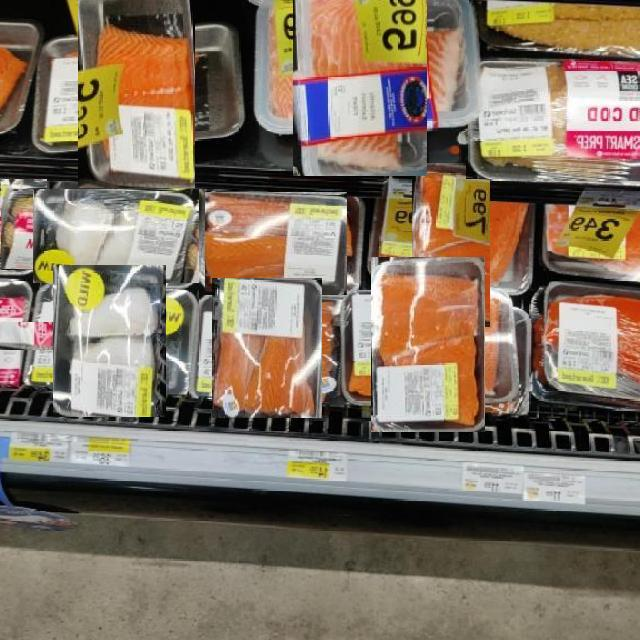Meat: (293, 0, 427, 176), (78, 0, 195, 188), (466, 63, 639, 179), (371, 257, 485, 432), (54, 264, 166, 417), (33, 188, 199, 283), (212, 279, 322, 418), (205, 191, 347, 295), (412, 164, 490, 327), (545, 282, 640, 399), (0, 179, 47, 270), (0, 323, 69, 350)
